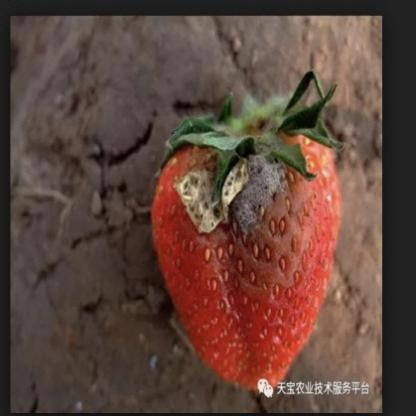Strawberry_Gray_Mold: (169, 146, 324, 298)
